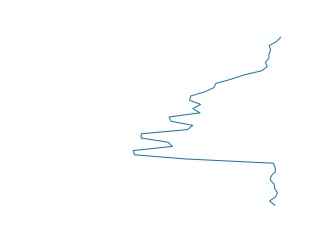proximalDeepseaFan: (126, 34, 288, 208)
